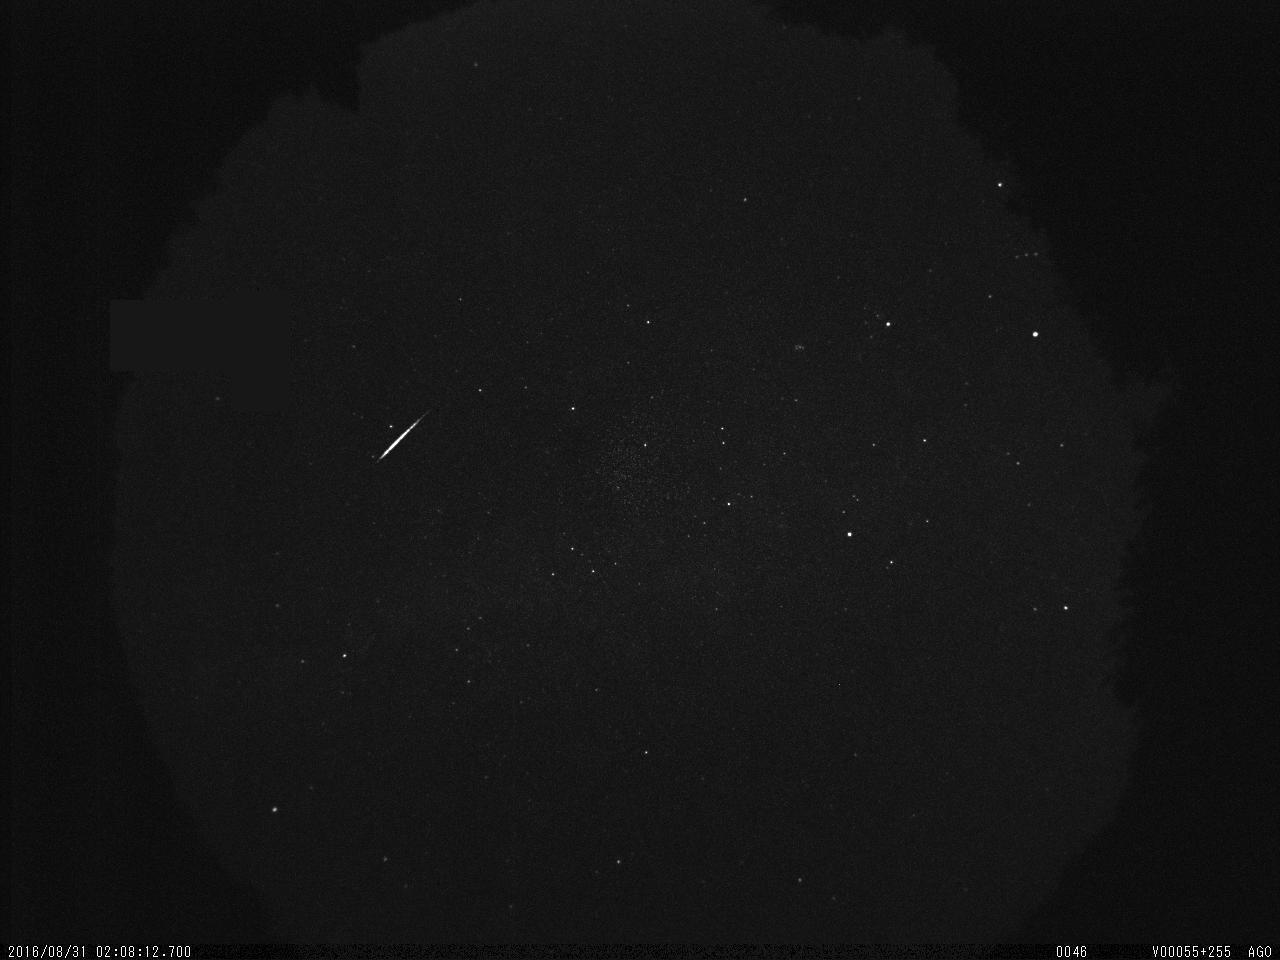meteor: (373, 405, 442, 467)
